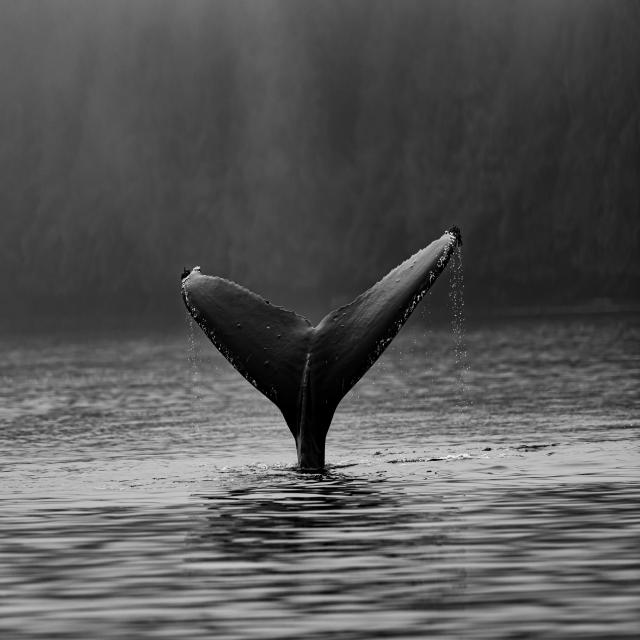jellyfish: (181, 227, 462, 469)
